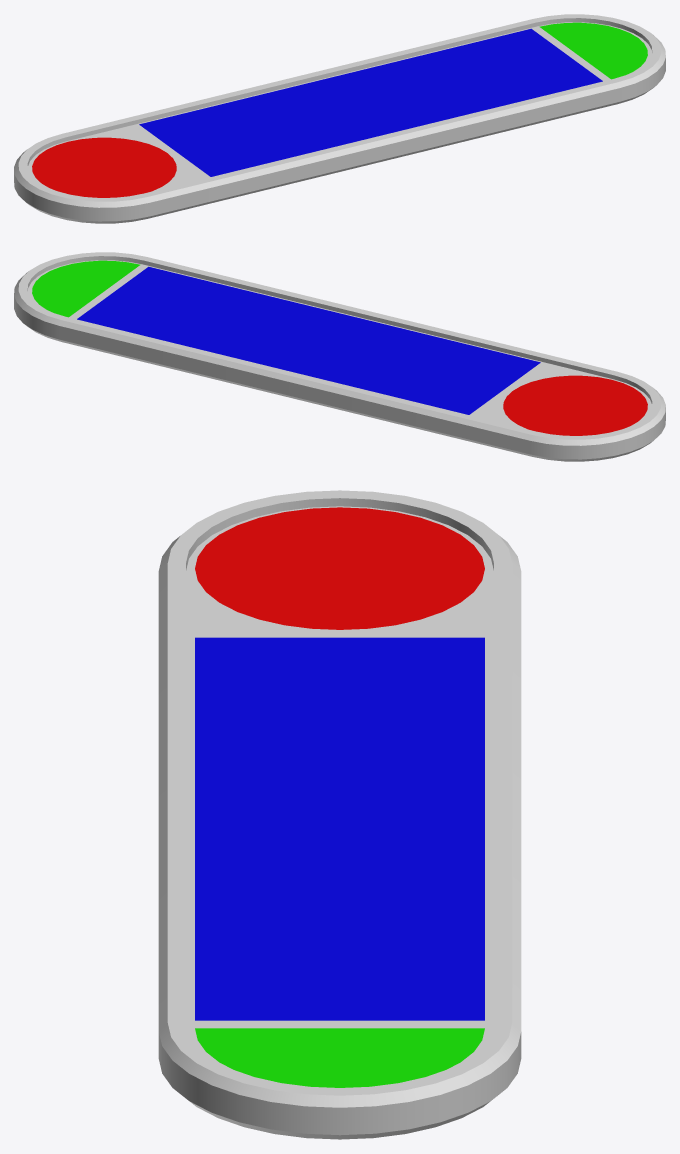
The model's file is AudioHairClip_PlateOnly.fbx.
3 views of the same model, one above another, from view 1: azimuth 30°, elevation 25°; view 2: azimuth 150°, elevation 25°; view 3: azimuth 270°, elevation 25° (orthographic). The views are drawn at different scales.
Parts seen in each view (by area): view 1: Display, HairClip1; view 2: Display, HairClip1; view 3: Display, HairClip1.
Part boxes in pixels (bbox=[...]): Display: bbox=[32, 22, 647, 197]; HairClip1: bbox=[14, 14, 665, 223]; Display: bbox=[32, 260, 647, 435]; HairClip1: bbox=[14, 252, 665, 461]; Display: bbox=[195, 507, 484, 1087]; HairClip1: bbox=[158, 490, 521, 1139].
Size of the model in its own units: 0.04 by 0.00133 by 0.01.
